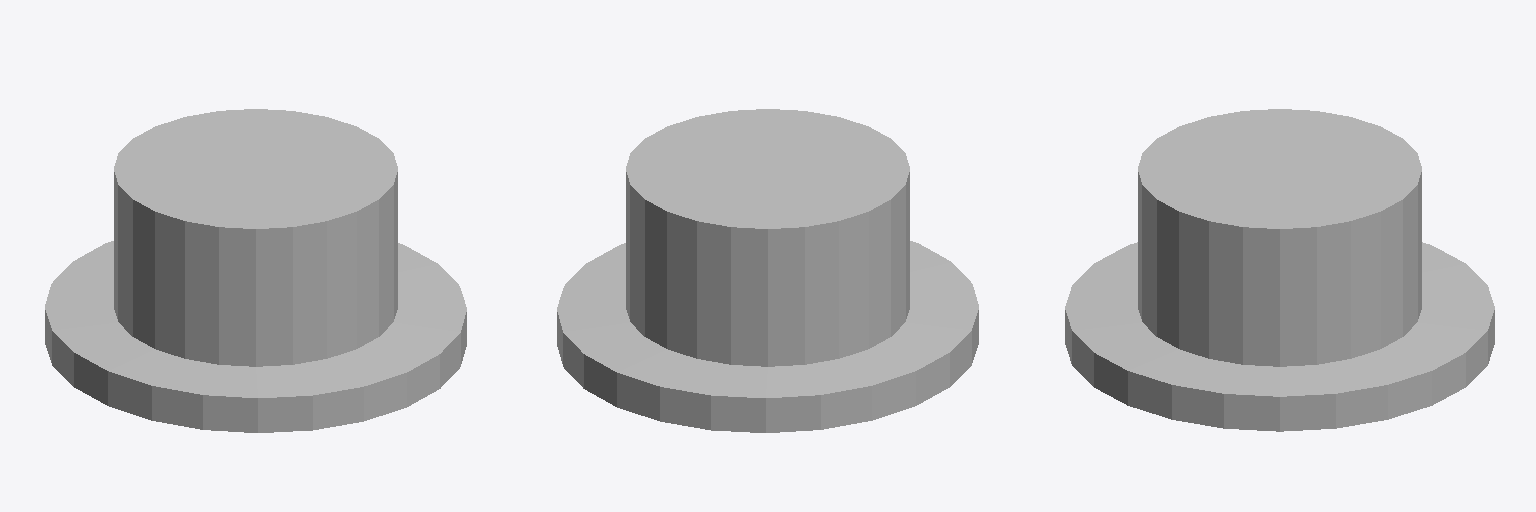
File: Hat.obj
The picture shows the model from 3 angles: view 1: azimuth 30°, elevation 25°; view 2: azimuth 150°, elevation 25°; view 3: azimuth 270°, elevation 25°; orthographic projection.
Visible parts, largest first — view 1: Cylinder; view 2: Cylinder; view 3: Cylinder.
Part boxes in pixels (x1,y1,x2,y2): Cylinder: (45, 109, 466, 432); Cylinder: (557, 109, 978, 432); Cylinder: (1065, 109, 1494, 431).
Bounding box in the file's own units: 1.47 × 0.6737 × 1.51.